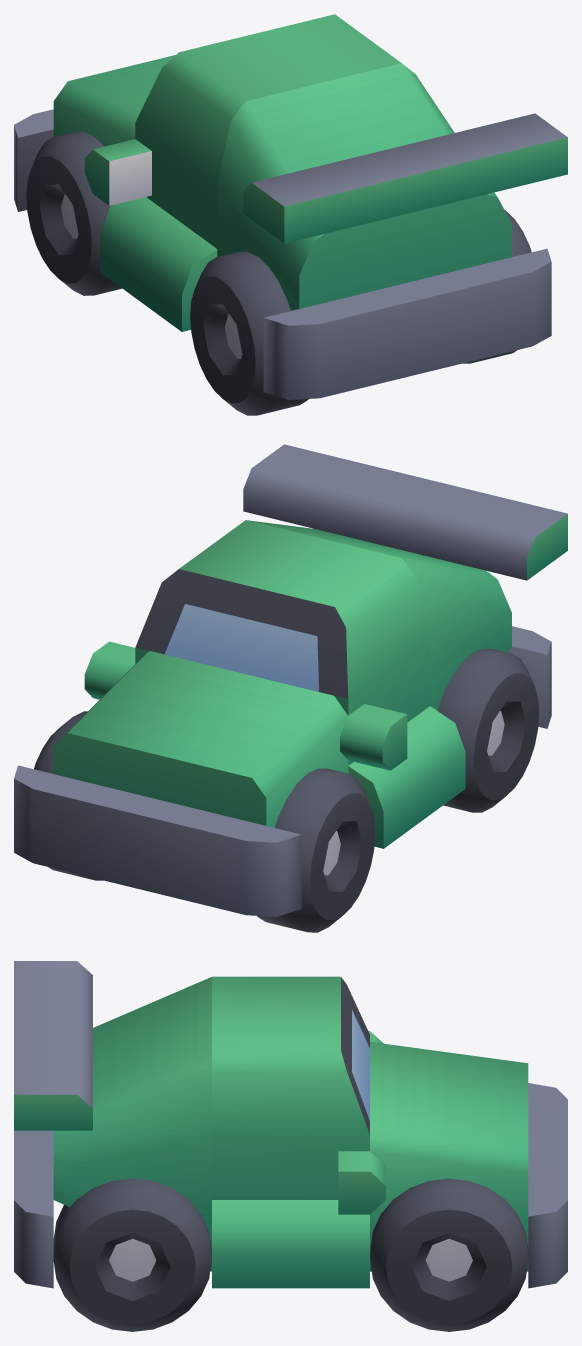
File: vehicle-racer.obj
3 renders of one model, top to bottom at view 1: azimuth 30°, elevation 25°; view 2: azimuth 150°, elevation 25°; view 3: azimuth 270°, elevation 25°, orthographic. The views are drawn at different scales.
Visible parts, largest first — view 1: vehicle-racer, wheel-bl, wheel-fl, wheel-br; view 2: vehicle-racer, wheel-bl, wheel-fl, wheel-fr; view 3: vehicle-racer, wheel-br, wheel-fr.
Boxes of the visible parts, x1,y1,x2,y2 form: vehicle-racer: [14, 14, 567, 399]; wheel-bl: [190, 251, 308, 415]; wheel-fl: [26, 131, 121, 295]; wheel-br: [463, 210, 531, 363]; vehicle-racer: [14, 444, 567, 916]; wheel-bl: [437, 648, 539, 812]; wheel-fl: [257, 768, 375, 932]; wheel-fr: [34, 711, 103, 880]; vehicle-racer: [14, 961, 567, 1288]; wheel-br: [53, 1178, 211, 1331]; wheel-fr: [370, 1178, 528, 1331].
Bounding box in the file's own units: 0.525 × 0.45 × 0.875.
1 material, 1 textured.
